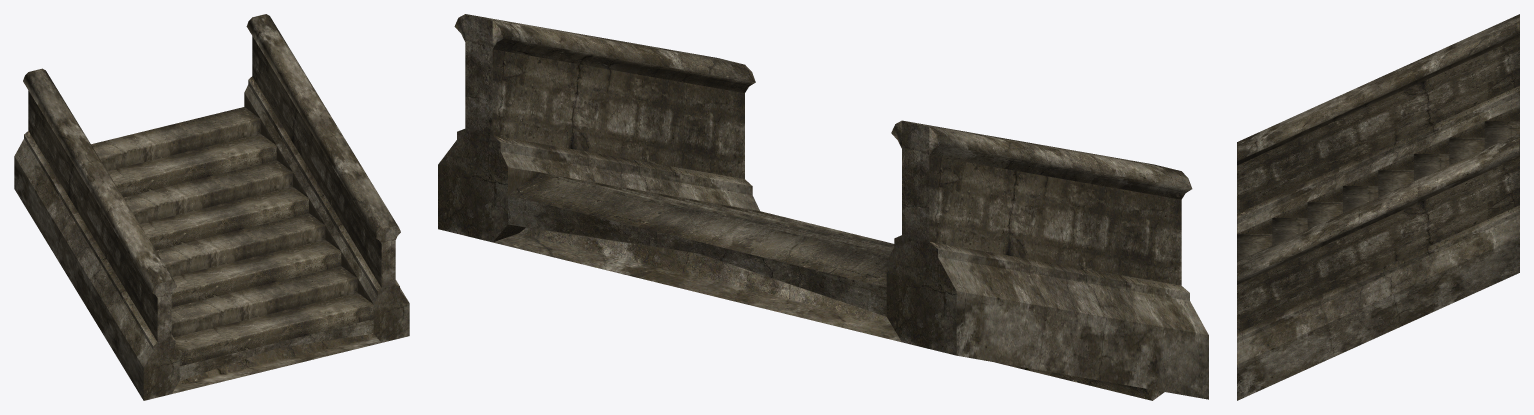
Rendered from default_worn.dae.
The picture shows the model from 3 angles, left to right: view 1: azimuth 30°, elevation 25°; view 2: azimuth 150°, elevation 25°; view 3: azimuth 270°, elevation 25°; orthographic projection. The views are drawn at different scales.
Parts seen in each view (by area): view 1: polySurface3; view 2: polySurface3; view 3: polySurface3.
Part boxes in pixels (x1,y1,x2,y2): polySurface3: [14, 14, 409, 400]; polySurface3: [438, 14, 1208, 400]; polySurface3: [1237, 14, 1519, 400].
Size of what is drawn, in the model's own units: 4.75 by 3.94 by 4.
